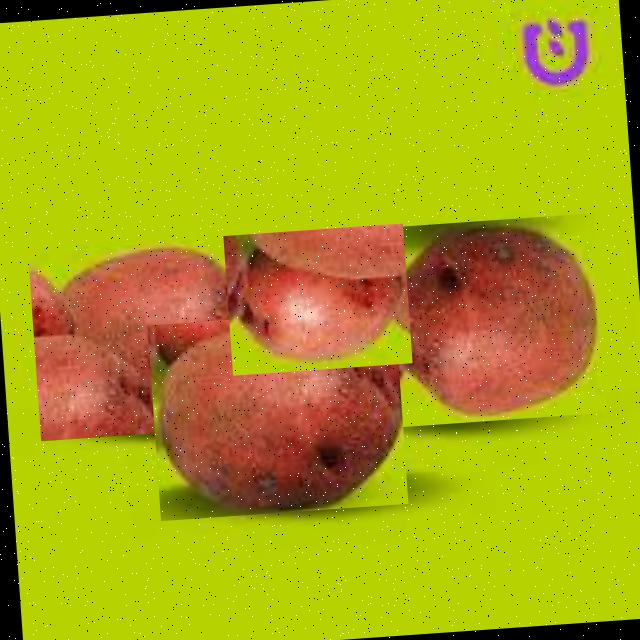Defected potato: (146, 307, 407, 520), (26, 232, 281, 439), (379, 212, 606, 426), (222, 222, 411, 374)
